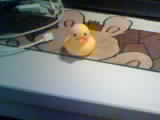duck: (61, 16, 104, 64)
